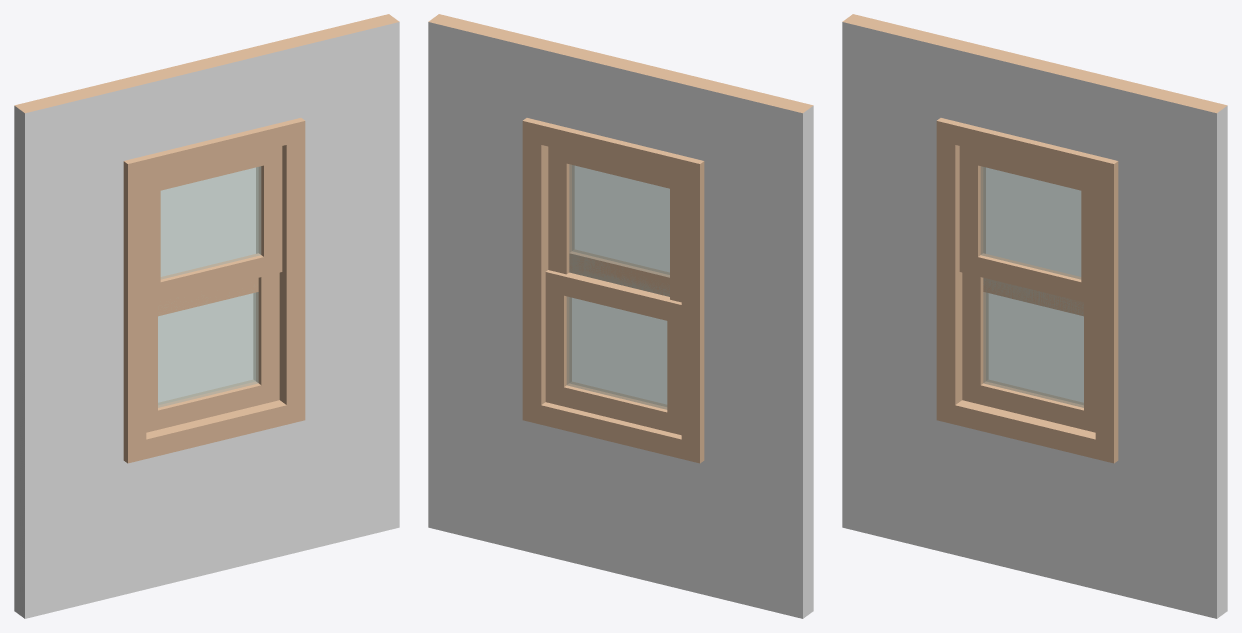
Rendered from wallWindowSlide.glb.
3 views of the same model, side by side, from view 1: azimuth 30°, elevation 25°; view 2: azimuth 150°, elevation 25°; view 3: azimuth 330°, elevation 25° (orthographic).
Visible parts, largest first — view 1: wallWindowSlide(Clone), window, windowTop, windowBottom; view 2: wallWindowSlide(Clone), window, windowBottom, windowTop; view 3: wallWindowSlide(Clone), window, windowTop, windowBottom.
Part boxes in pixels (x1,y1,x2,y2): wallWindowSlide(Clone): (14, 14, 399, 618); window: (146, 167, 279, 432); windowTop: (146, 146, 282, 304); windowBottom: (158, 277, 258, 407); wallWindowSlide(Clone): (428, 14, 813, 618); window: (548, 146, 681, 406); windowBottom: (545, 270, 681, 435); windowTop: (569, 164, 669, 296); wallWindowSlide(Clone): (842, 14, 1227, 618); window: (962, 167, 1095, 432); windowTop: (959, 146, 1095, 304); windowBottom: (983, 278, 1083, 407).
Bounding box in the file's own units: 1 × 1.29 × 0.0891.
